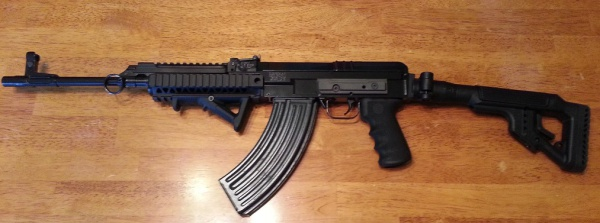ak47: (3, 52, 590, 216)
